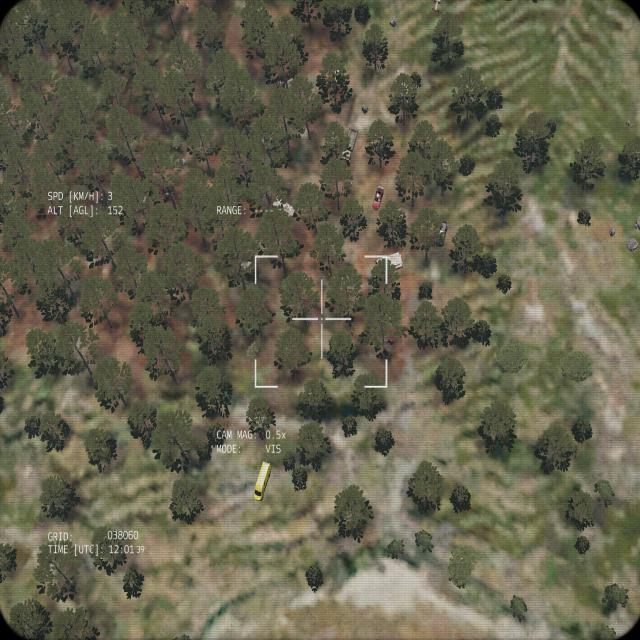apc: (272, 196, 294, 219)
car: (252, 458, 272, 504), (369, 182, 388, 213), (436, 218, 448, 250)
tank: (365, 252, 403, 273)
truck: (340, 128, 355, 160)
